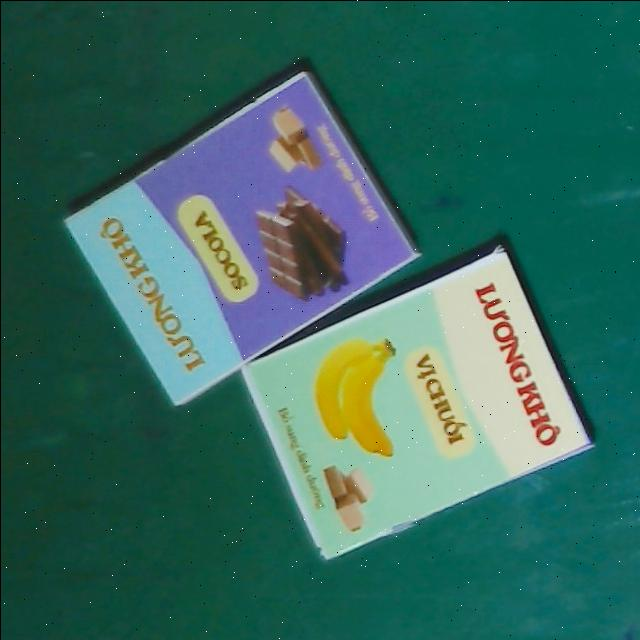chuoi: (235, 246, 593, 564)
socola: (58, 65, 422, 406)
